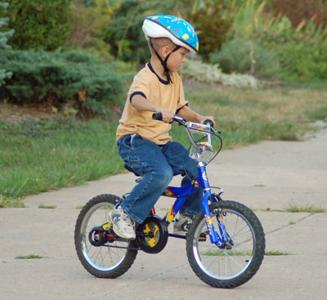person: (110, 16, 216, 242)
